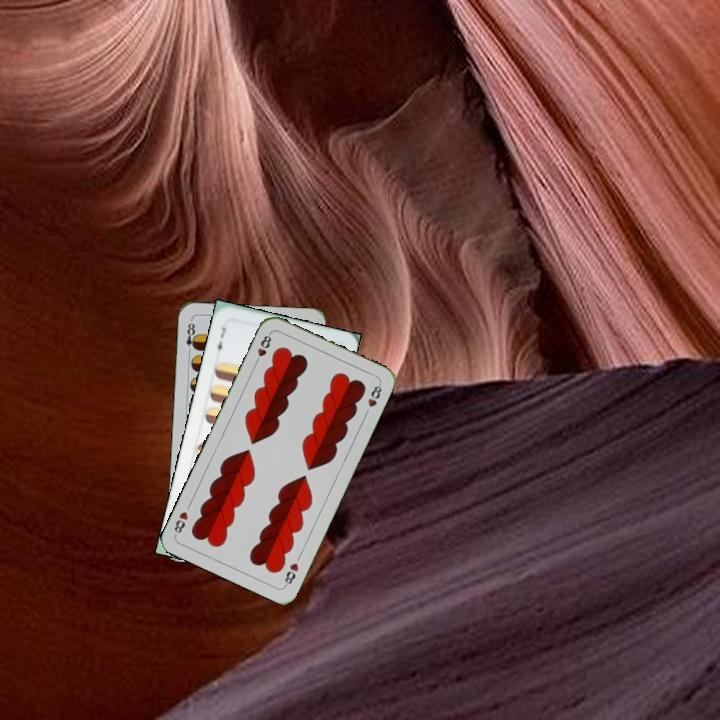E7: (212, 323, 228, 357)
E8: (182, 317, 199, 357)
H8: (251, 329, 274, 367), (280, 559, 301, 589)
